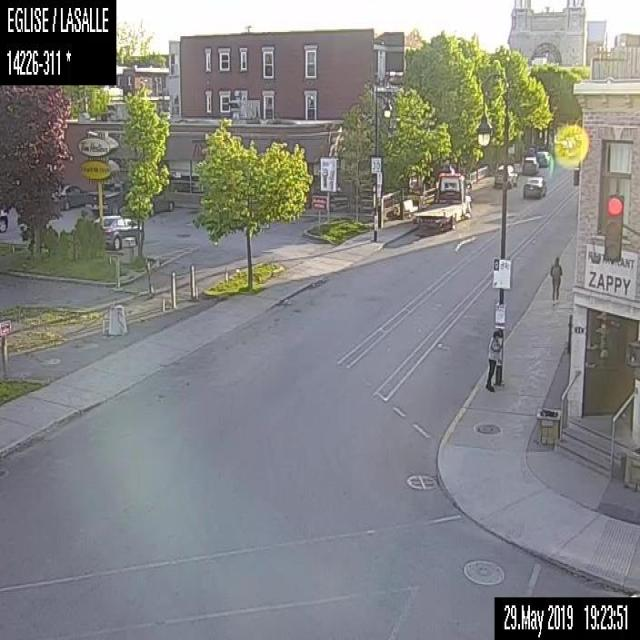pedestrian: (484, 328, 501, 393), (549, 253, 562, 306)
vehicle: (412, 172, 472, 233), (95, 214, 143, 249), (87, 182, 125, 214), (55, 183, 86, 208), (493, 163, 518, 189), (148, 194, 174, 214), (521, 176, 545, 197), (535, 148, 551, 168), (522, 155, 538, 172), (0, 209, 7, 231)
